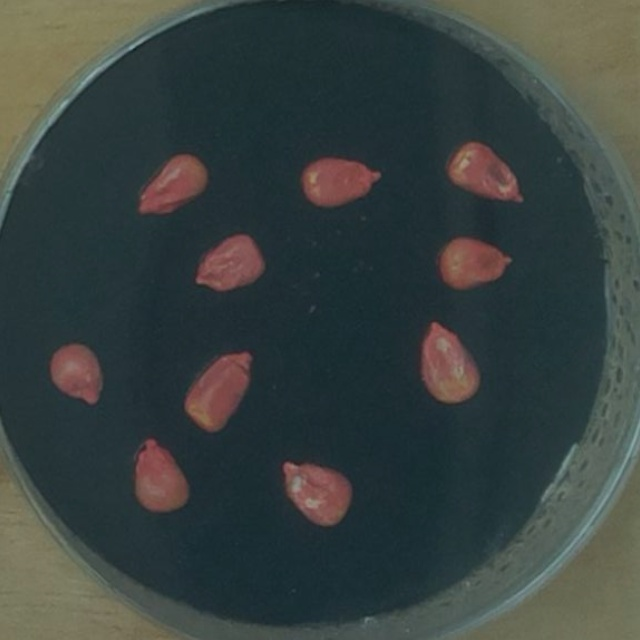Zea mays: (175, 342, 264, 440), (436, 133, 532, 215), (412, 313, 490, 412), (273, 452, 361, 536), (128, 146, 215, 226), (123, 428, 197, 520), (186, 225, 275, 299), (430, 229, 522, 299), (294, 150, 390, 216), (41, 335, 111, 416)
